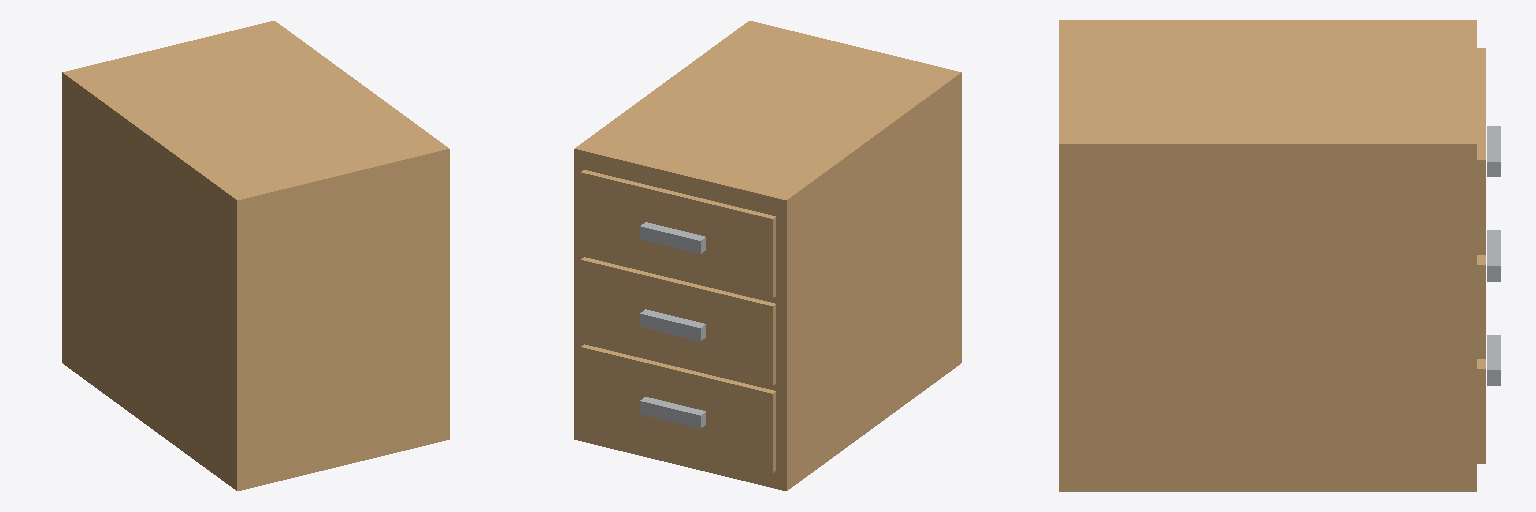
The robot description file, URDF, robot "office_pedestal":
<?xml version="1.0"?>
<robot name="office_pedestal">
  <!-- Materials approximating real colors -->
  <material name="light_wood">
    <color rgba="0.86 0.71 0.52 1.0"/>
  </material>
  <material name="drawer_black">
    <color rgba="0.15 0.16 0.18 1.0"/>
  </material>
  <material name="handle_grey">
    <color rgba="0.75 0.77 0.78 1.0"/>
  </material>

  <!-- CABINET BODY -->
  <!-- Real size ~ W 0.42m x D 0.60m x H 0.55m, 3-drawer pedestal -->
  <!-- base_link frame at floor center under cabinet, z=0 is floor -->
  <link name="base_link">
    <inertial>
      <mass value="22.0"/>
      <origin xyz="0 0 0.275" rpy="0 0 0"/>
      <inertia ixx="1.2" ixy="0" ixz="0" iyy="1.3" iyz="0" izz="0.8"/>
    </inertial>
    <visual>
      <origin xyz="0 0 0.275" rpy="0 0 0"/>
      <geometry>
        <box size="0.42 0.60 0.55"/>
      </geometry>
      <material name="light_wood"/>
    </visual>
    <collision>
      <origin xyz="0 0 0.275" rpy="0 0 0"/>
      <geometry>
        <box size="0.42 0.60 0.55"/>
      </geometry>
    </collision>
  </link>

  <!-- TOP DRAWER -->
  <link name="drawer_top">
    <inertial>
      <mass value="3.0"/>
      <origin xyz="0 0.05 -0.02" rpy="0 0 0"/>
      <inertia ixx="0.05" ixy="0" ixz="0" iyy="0.08" iyz="0" izz="0.05"/>
    </inertial>
    <!-- wood front -->
    <visual>
      <origin xyz="0 0.30 0" rpy="0 0 0"/>
      <geometry>
        <box size="0.38 0.025 0.15"/>
      </geometry>
      <material name="light_wood"/>
    </visual>
    <!-- drawer tub -->
    <visual>
      <origin xyz="0 0.05 -0.02" rpy="0 0 0"/>
      <geometry>
        <box size="0.34 0.48 0.11"/>
      </geometry>
      <material name="drawer_black"/>
    </visual>
    <!-- handle, horizontal on front -->
    <visual>
      <origin xyz="0 0.325 0" rpy="0 0 0"/>
      <geometry>
        <box size="0.12 0.02 0.025"/>
      </geometry>
      <material name="handle_grey"/>
    </visual>
  </link>

  <joint name="drawer_top_joint" type="prismatic">
    <parent link="base_link"/>
    <child link="drawer_top"/>
    <origin xyz="0 0 0.44" rpy="0 0 0"/>
    <axis xyz="0 1 0"/>
    <limit lower="0" upper="0.36" effort="100" velocity="1.0"/>
  </joint>

  <!-- MIDDLE DRAWER -->
  <link name="drawer_middle">
    <inertial>
      <mass value="3.0"/>
      <origin xyz="0 0.05 -0.02" rpy="0 0 0"/>
      <inertia ixx="0.05" ixy="0" ixz="0" iyy="0.08" iyz="0" izz="0.05"/>
    </inertial>
    <visual>
      <origin xyz="0 0.30 0" rpy="0 0 0"/>
      <geometry>
        <box size="0.38 0.025 0.15"/>
      </geometry>
      <material name="light_wood"/>
    </visual>
    <visual>
      <origin xyz="0 0.05 -0.02" rpy="0 0 0"/>
      <geometry>
        <box size="0.34 0.48 0.11"/>
      </geometry>
      <material name="drawer_black"/>
    </visual>
    <visual>
      <origin xyz="0 0.325 0" rpy="0 0 0"/>
      <geometry>
        <box size="0.12 0.02 0.025"/>
      </geometry>
      <material name="handle_grey"/>
    </visual>
  </link>

  <joint name="drawer_middle_joint" type="prismatic">
    <parent link="base_link"/>
    <child link="drawer_middle"/>
    <origin xyz="0 0 0.275" rpy="0 0 0"/>
    <axis xyz="0 1 0"/>
    <limit lower="0" upper="0.36" effort="100" velocity="1.0"/>
  </joint>

  <!-- BOTTOM DRAWER -->
  <link name="drawer_bottom">
    <inertial>
      <mass value="3.0"/>
      <origin xyz="0 0.05 -0.02" rpy="0 0 0"/>
      <inertia ixx="0.05" ixy="0" ixz="0" iyy="0.08" iyz="0" izz="0.05"/>
    </inertial>
    <visual>
      <origin xyz="0 0.30 0" rpy="0 0 0"/>
      <geometry>
        <box size="0.38 0.025 0.15"/>
      </geometry>
      <material name="light_wood"/>
    </visual>
    <visual>
      <origin xyz="0 0.05 -0.02" rpy="0 0 0"/>
      <geometry>
        <box size="0.34 0.48 0.11"/>
      </geometry>
      <material name="drawer_black"/>
    </visual>
    <visual>
      <origin xyz="0 0.325 0" rpy="0 0 0"/>
      <geometry>
        <box size="0.12 0.02 0.025"/>
      </geometry>
      <material name="handle_grey"/>
    </visual>
  </link>

  <joint name="drawer_bottom_joint" type="prismatic">
    <parent link="base_link"/>
    <child link="drawer_bottom"/>
    <origin xyz="0 0 0.11" rpy="0 0 0"/>
    <axis xyz="0 1 0"/>
    <limit lower="0" upper="0.36" effort="100" velocity="1.0"/>
  </joint>

</robot>

--- Render facts (derived) ---
Views: 3 orthographic renders of the robot side by side, from view 1: azimuth 30°, elevation 25°; view 2: azimuth 150°, elevation 25°; view 3: azimuth 270°, elevation 25°.
Robot: office_pedestal — 4 links, 3 joints (3 prismatic); root link base_link; default pose: all joints at 0.
Links seen in each view (by area): view 1: base_link; view 2: base_link, drawer_top, drawer_middle, drawer_bottom; view 3: base_link, drawer_top, drawer_middle, drawer_bottom.
Link boxes in pixels (x1,y1,x2,y2): base_link: (62,21,449,490); base_link: (574,21,961,490); drawer_top: (581,170,775,298); drawer_middle: (581,257,775,385); drawer_bottom: (581,344,775,472); base_link: (1059,20,1476,491); drawer_top: (1477,48,1500,254); drawer_middle: (1477,230,1500,358); drawer_bottom: (1477,335,1500,463).
Size in the robot's own frame: 0.42 by 0.635 by 0.55 metres.
Geometry: primitives only (box / cylinder / sphere), no mesh files.
